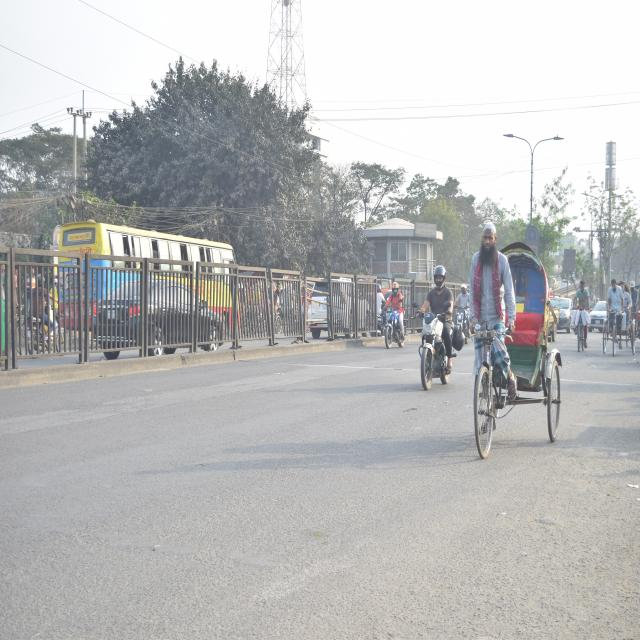bus: (50, 218, 245, 282)
car: (90, 270, 230, 362), (303, 262, 368, 344), (544, 295, 574, 334), (584, 293, 608, 334)
motorbike: (407, 290, 456, 395), (377, 295, 405, 350), (449, 293, 472, 344)
